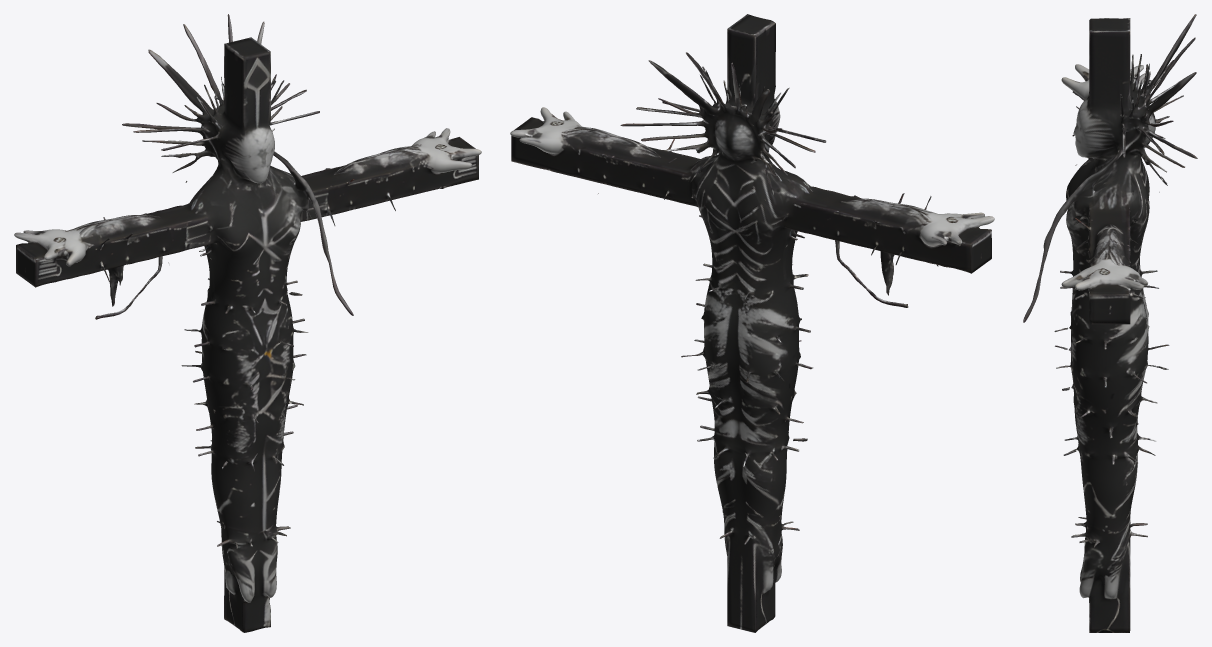
File: boss.glb
3 renders of one model, left to right at view 1: azimuth 30°, elevation 25°; view 2: azimuth 150°, elevation 25°; view 3: azimuth 270°, elevation 25°, orthographic. The views are drawn at different scales.
Visible parts, largest first — view 1: Object_2; view 2: Object_2; view 3: Object_2.
Boxes of the visible parts, x1,y1,x2,y2 form: Object_2: (14, 14, 481, 632); Object_2: (510, 14, 994, 632); Object_2: (1023, 14, 1197, 632).
Bounding box in the file's own units: 1.53 × 1.9 × 0.4998.
Materials: 1 (1 with a texture image).
